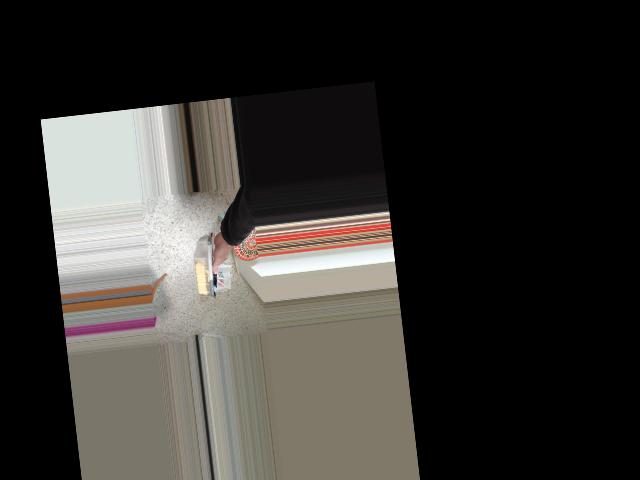cheese: (173, 219, 248, 295)
